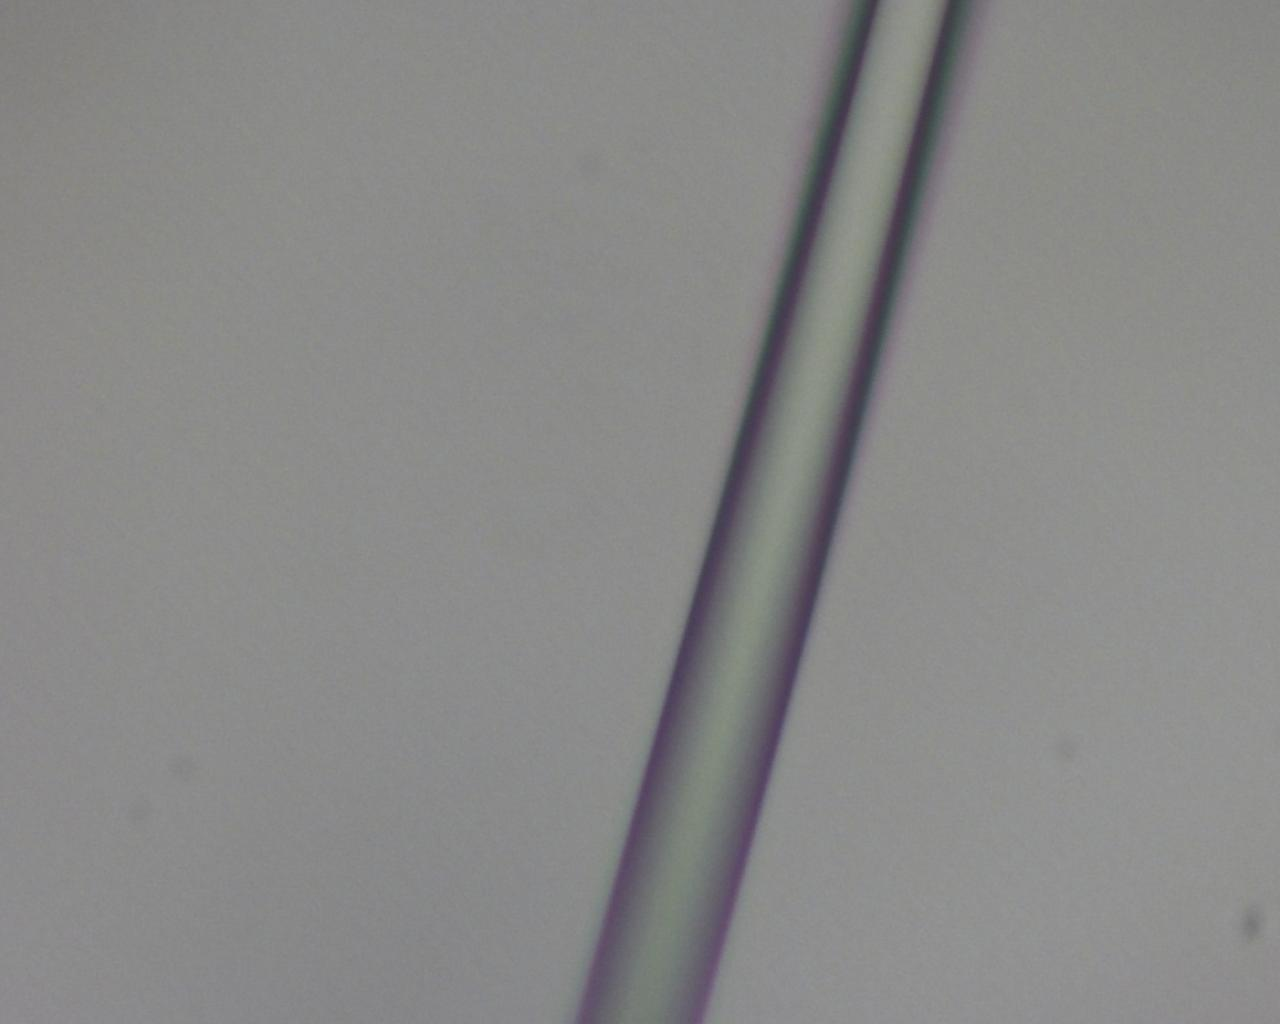fiber: (117, 0, 451, 614), (742, 819, 1215, 958)
